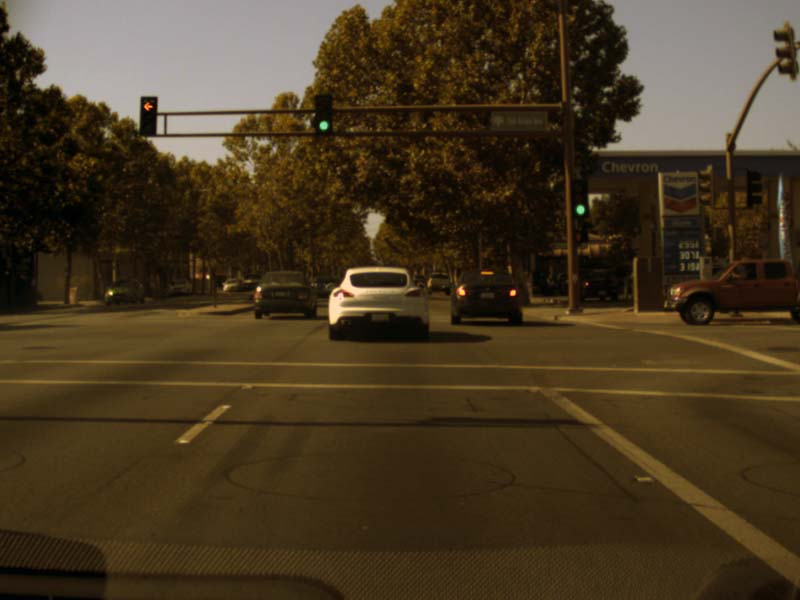Green: (569, 179, 587, 217), (315, 95, 331, 135)
Red: (141, 94, 155, 134)
